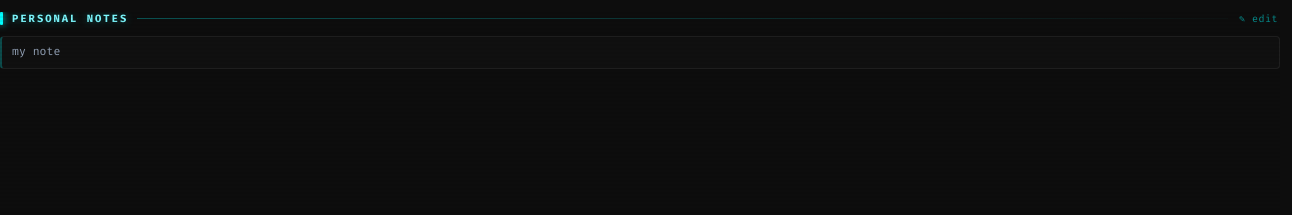
clicking the Edit affordance opens the editor seeded with the current note
Click the button with aria-label "edit notes" at (1258, 18), box [1237,12,1280,25]
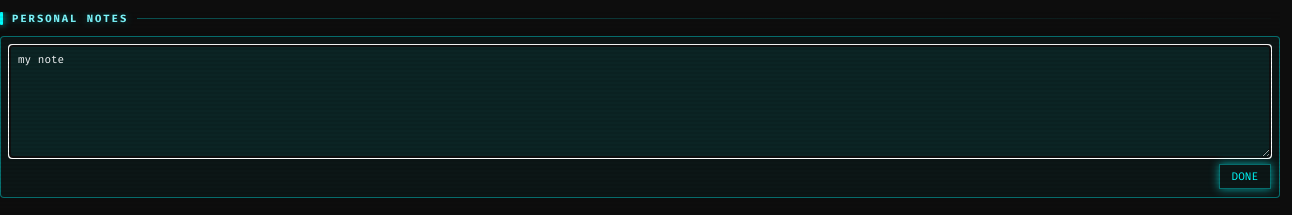
Check: the text box with placeholder "note" holds "my note", box [9,45,1271,158]
